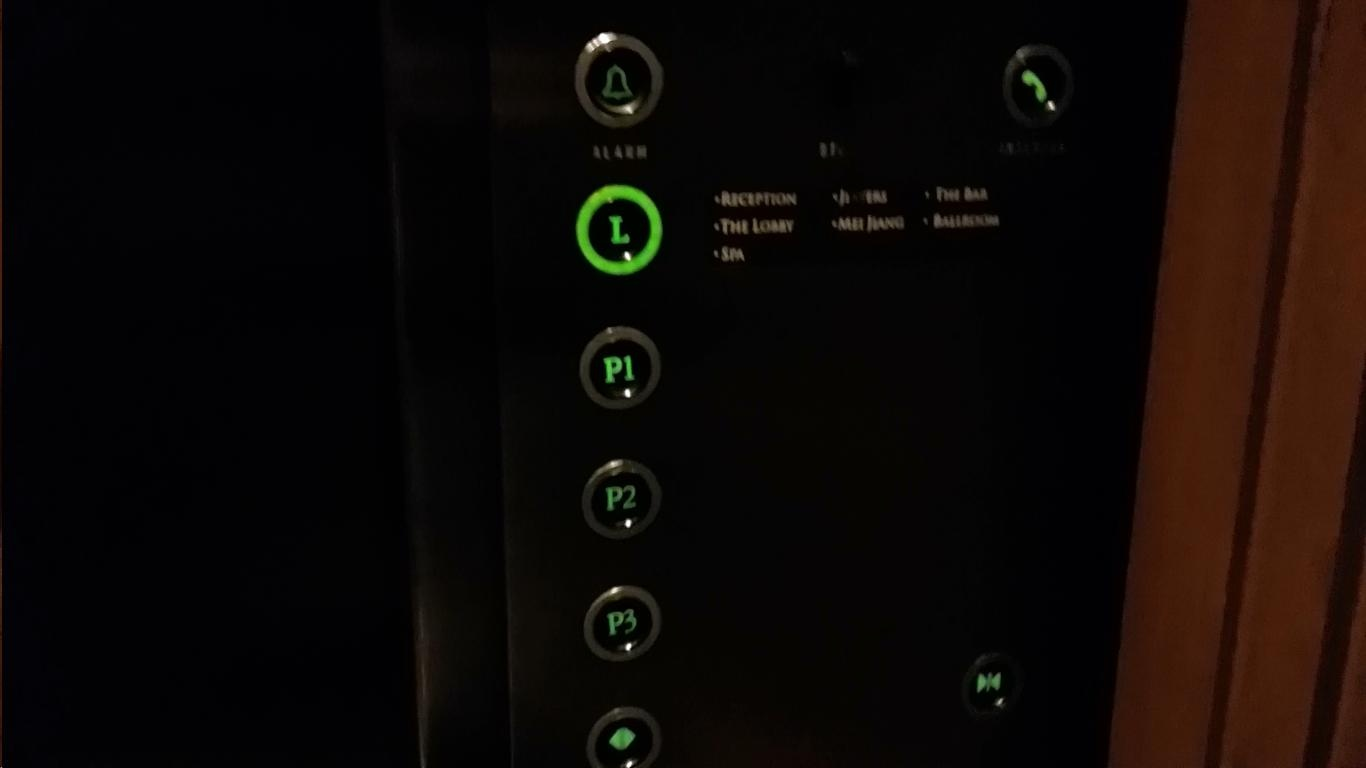L: (571, 185, 666, 277)
P1: (579, 327, 663, 411)
P2: (582, 460, 667, 543)
P3: (586, 584, 664, 664)
alarm: (575, 32, 664, 127)
call: (1000, 40, 1080, 132)
close: (957, 656, 1017, 715)
open: (583, 707, 658, 768)
